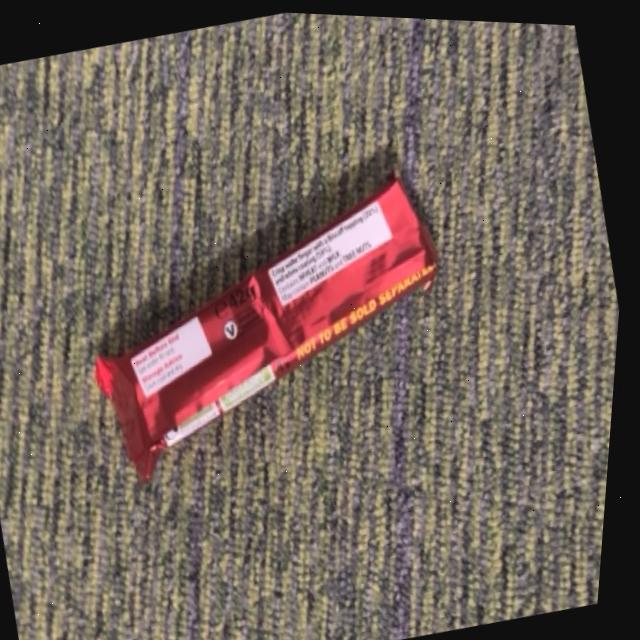chocolate: (52, 130, 500, 510)
